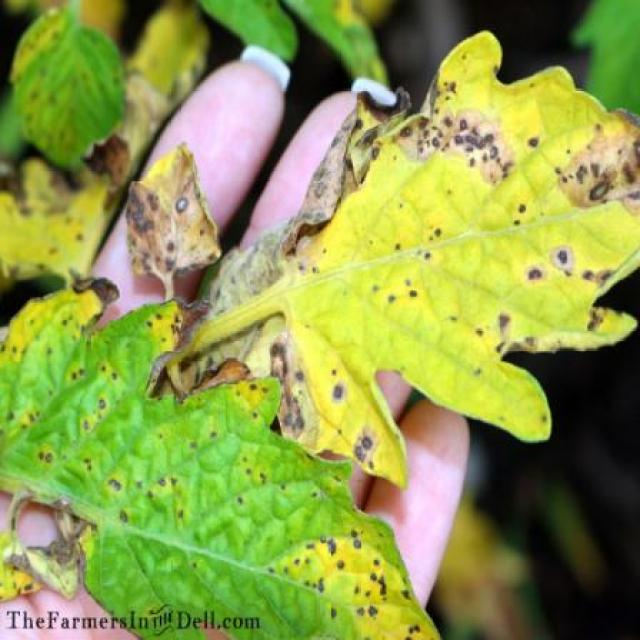Septoria: (260, 17, 640, 490), (0, 277, 441, 640), (7, 3, 126, 178), (116, 138, 226, 279)
